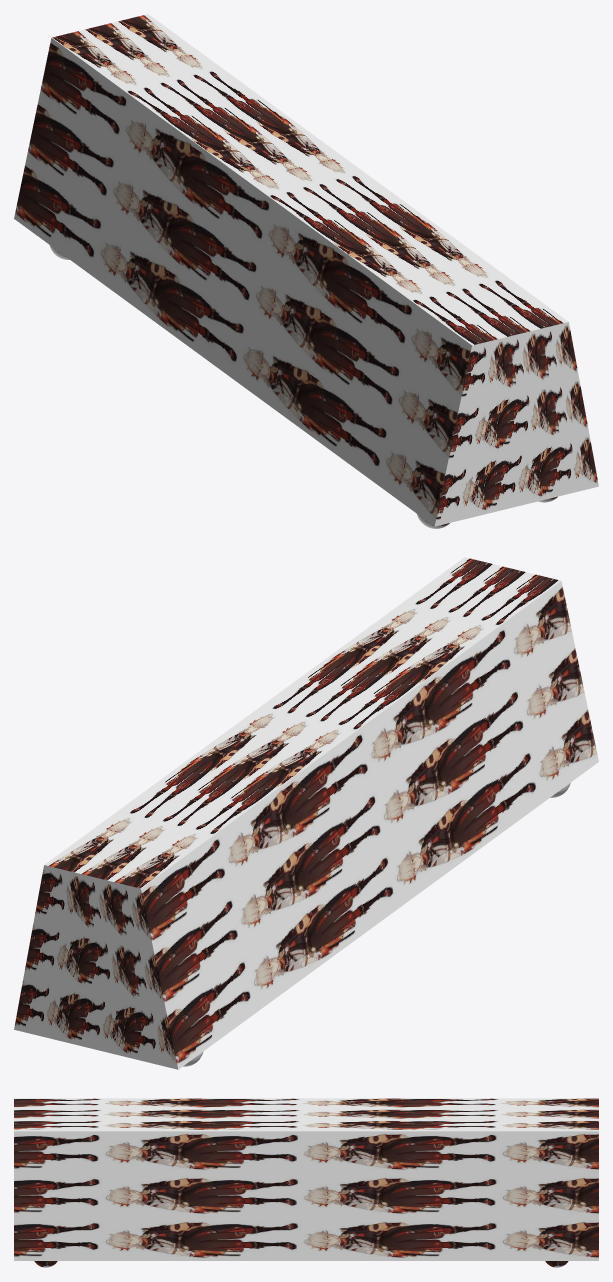
File: trenParaJuego.fbx
The picture shows the model from 3 angles, top to bottom: view 1: azimuth 30°, elevation 25°; view 2: azimuth 150°, elevation 25°; view 3: azimuth 270°, elevation 25°; orthographic projection. The views are drawn at different scales.
Visible parts, largest first — view 1: TrenDelPelotudo; view 2: TrenDelPelotudo; view 3: TrenDelPelotudo.
Boxes of the visible parts, x1,y1,x2,y2 form: TrenDelPelotudo: [14, 14, 598, 528]; TrenDelPelotudo: [14, 557, 598, 1069]; TrenDelPelotudo: [14, 1098, 598, 1267].
Bounding box in the file's own units: 200 × 227 × 887.
Materials: 1 (1 with a texture image).
